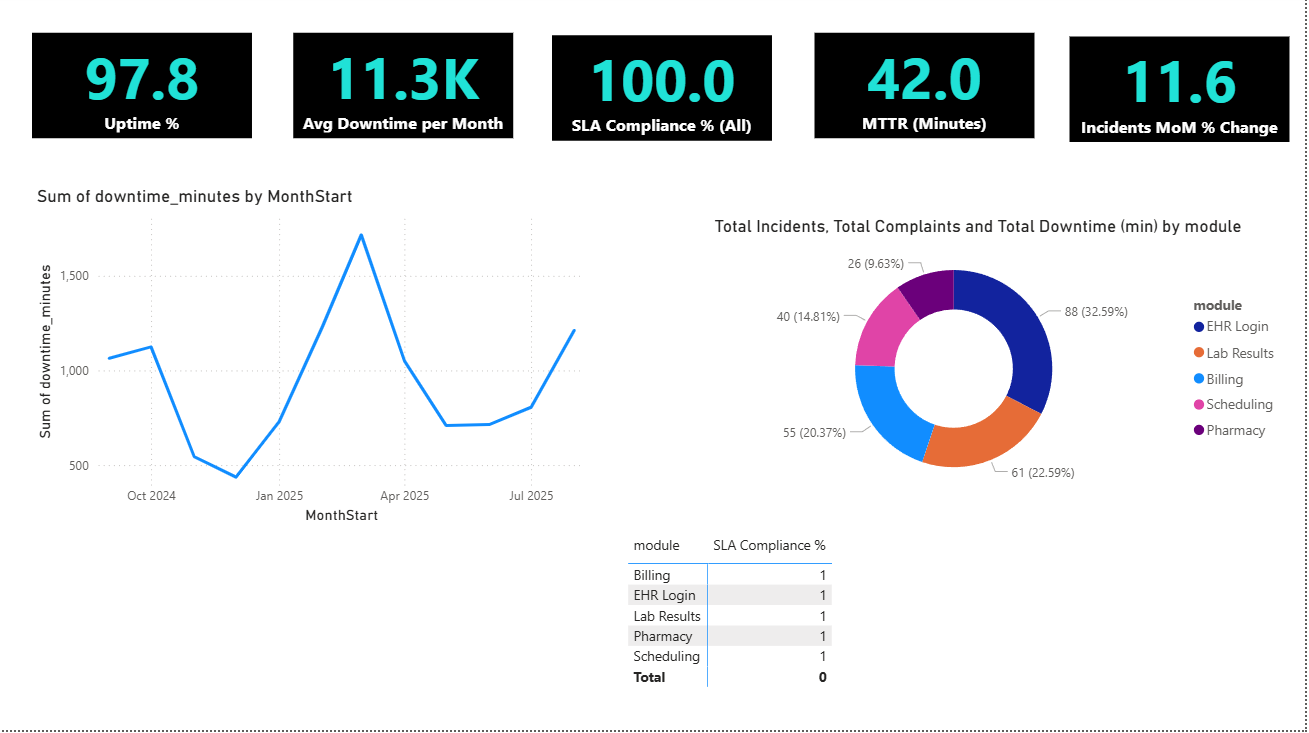

The dashboard page shown, as its layout file describes it:
{"tool":"powerbi","page":{"name":"Page 1","canvas":[1280,720],"ordinal":0},"visuals":[{"type":"card","fields":{"Values":["MonthTable.Uptime %"]},"box":[34.3,38.4,215.4,102.9],"z":5000},{"type":"card","fields":{"Values":["MonthTable.MTTR (Minutes)"]},"box":[800,38.4,215.4,102.9],"z":5001},{"type":"card","fields":{"Values":["MonthTable.Avg Downtime per Month"]},"box":[289.5,38.4,215.4,102.9],"z":5002},{"type":"card","fields":{"Values":["MonthTable.SLA Compliance % (All)"]},"box":[543.4,39.8,215.4,102.9],"z":5003},{"type":"card","fields":{"Values":["MonthTable.Incidents MoM % Change"]},"box":[1049.7,41.2,215.4,102.9],"z":5004},{"type":"lineChart","fields":{"Y":["Sum(healthcare_app_monitoring.downtime_minutes)"],"Category":["MonthTable.MonthStart"]},"box":[34.2,187.1,557.6,336.3],"z":5005},{"type":"donutChart","fields":{"Category":["healthcare_app_monitoring.module"],"Y":["Calendar.Total Incidents"]},"box":[697,216.4,566.2,281.3],"z":5006},{"type":"pivotTable","fields":{"Rows":["healthcare_app_monitoring.module"],"Values":["MonthTable.SLA Compliance %"]},"box":[612.6,523.4,282.5,184.6],"z":5007}]}

Visuals, with their boxes in screenshot pixels (x1, y1, x2, y2), scaled from the page's 1280x720 canvas onto the 1309x733 screenshot:
card - MonthTable.Uptime %: (35,39,255,144)
card - MonthTable.MTTR (Minutes): (818,39,1038,144)
card - MonthTable.Avg Downtime per Month: (296,39,516,144)
card - MonthTable.SLA Compliance % (All): (556,41,776,145)
card - MonthTable.Incidents MoM % Change: (1073,42,1294,147)
lineChart - Sum(healthcare_app_monitoring.downtime_minutes) x MonthTable.MonthStart: (35,190,605,533)
donutChart - healthcare_app_monitoring.module x Calendar.Total Incidents: (713,220,1292,507)
pivotTable - healthcare_app_monitoring.module x MonthTable.SLA Compliance %: (626,533,915,721)
